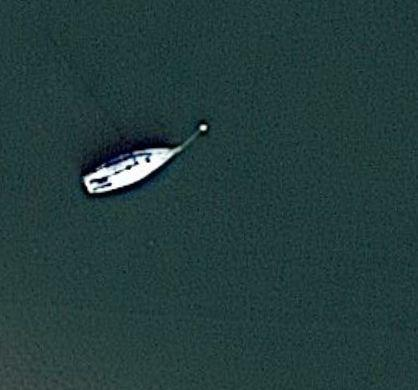Ships: (62, 109, 220, 200)
